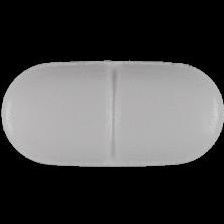67296-0499: (0, 0, 224, 224)
